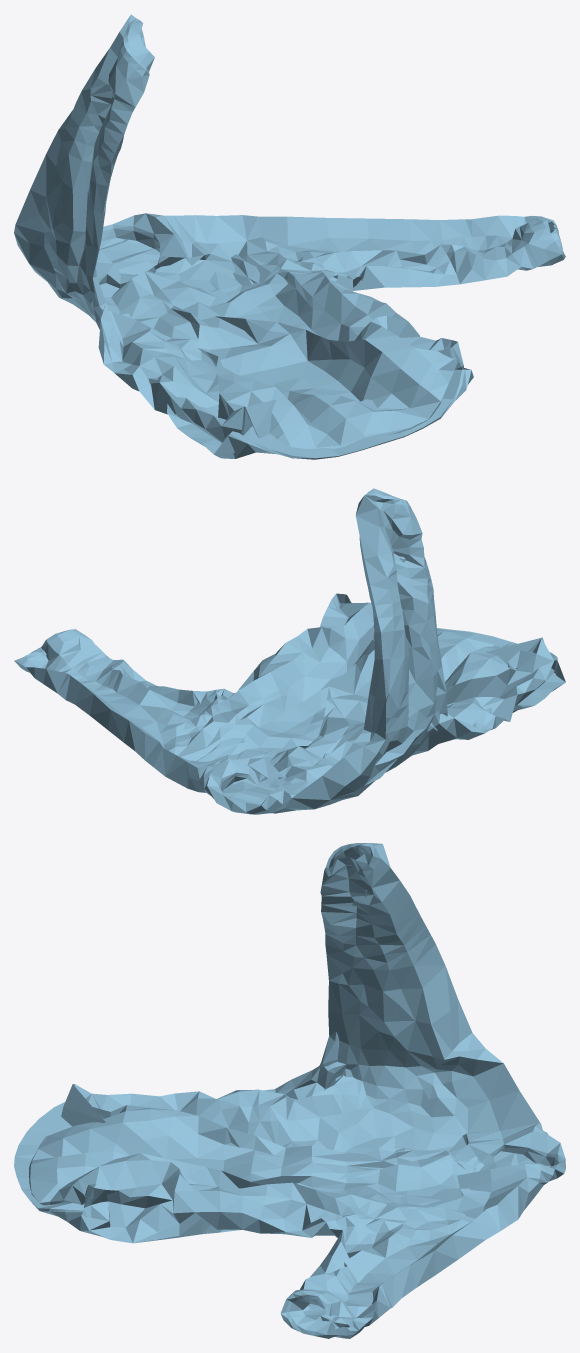
Rendered from frame_13.glb.
The picture shows the model from 3 angles, top to bottom: view 1: azimuth 30°, elevation 25°; view 2: azimuth 150°, elevation 25°; view 3: azimuth 270°, elevation 25°; orthographic projection. The views are drawn at different scales.
Parts seen in each view (by area): view 1: frame_13.obj; view 2: frame_13.obj; view 3: frame_13.obj.
Boxes of the visible parts, x1,y1,x2,y2 form: frame_13.obj: (14,14,565,459); frame_13.obj: (14,488,565,814); frame_13.obj: (14,843,565,1338).
Bounding box in the file's own units: 1.4 × 0.8969 × 1.39.
